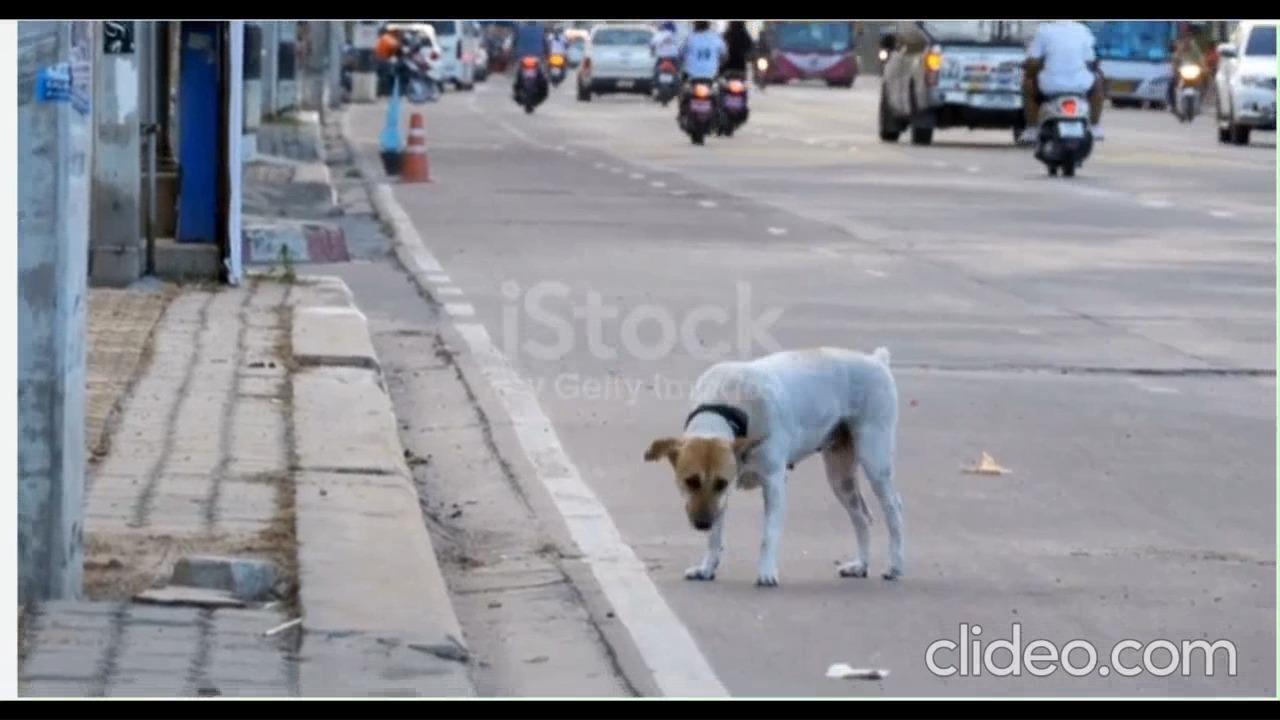dog: (643, 348, 911, 588)
